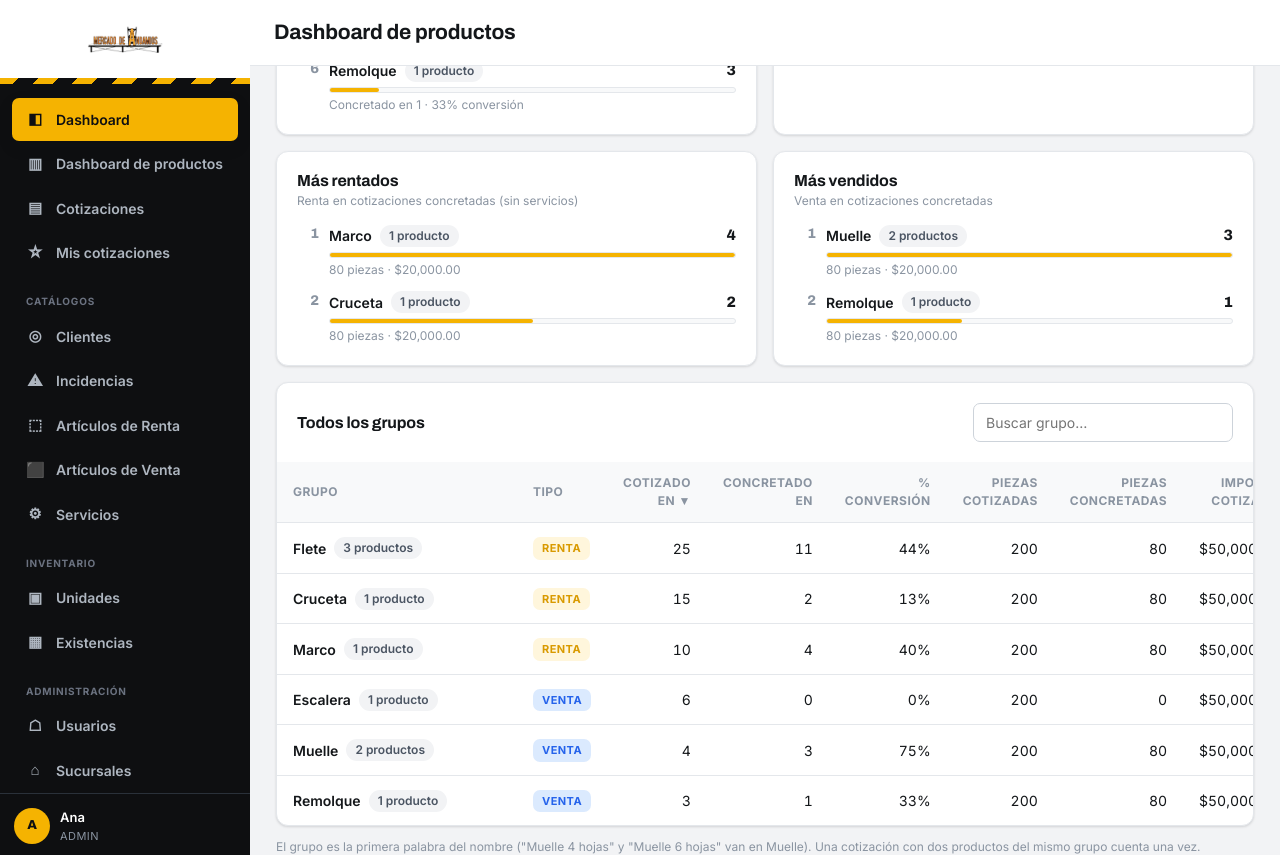
Test case: DashboardProductos — por familia (vista inicial) › clic en una familia muestra sus productos y se puede regresar
(page scrolled)
What coordinates should you click on to do the following:
click the text "Muelle" below "Tipo"
I would click on:
 (316, 750)
Its box is [293, 740, 338, 760].
(page scrolled)
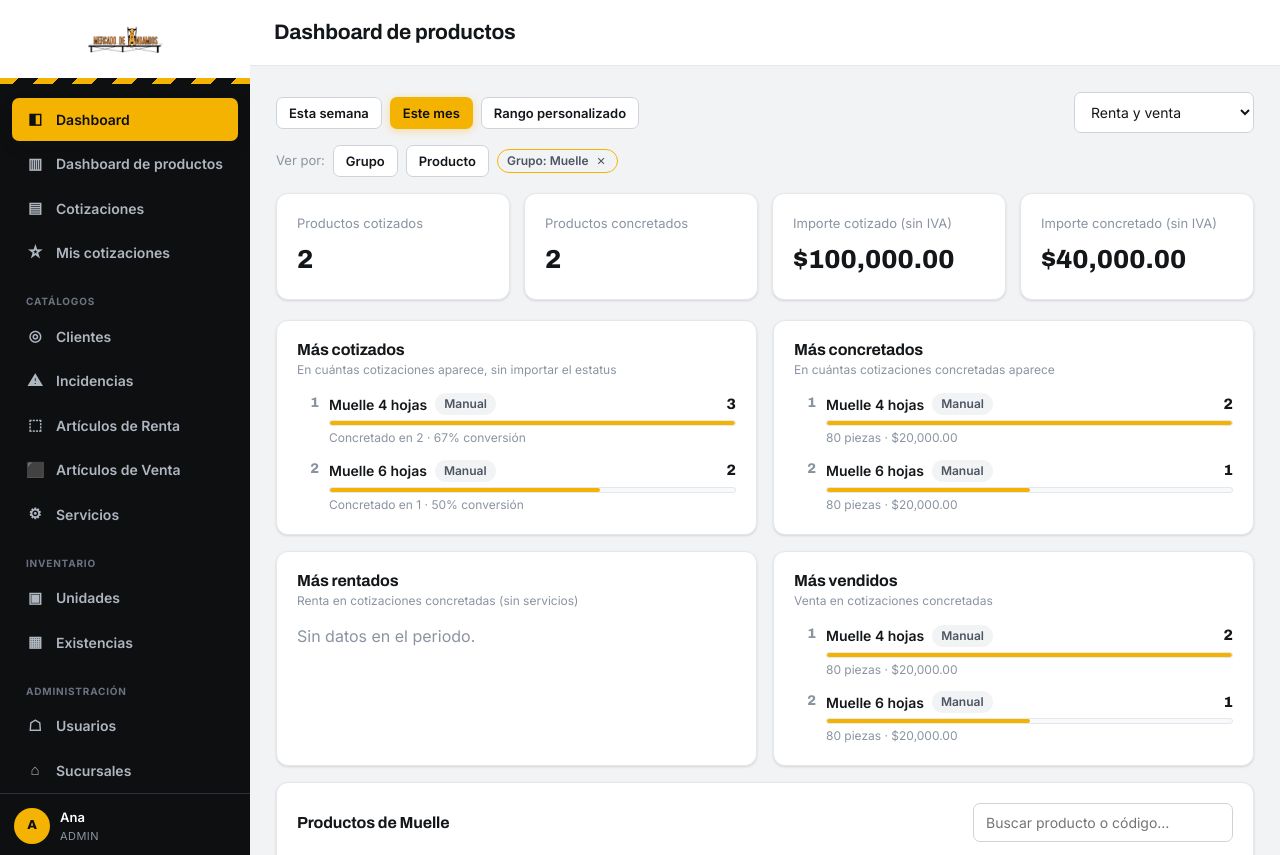
expect the heading "Productos de Muelle" is shown: met, box [297, 814, 449, 832]
What coordinates should you click on to do the following:
click the button named "Quitar grupo"
I would click on:
 (601, 161)
Its box is [595, 154, 608, 168].
(page scrolled)
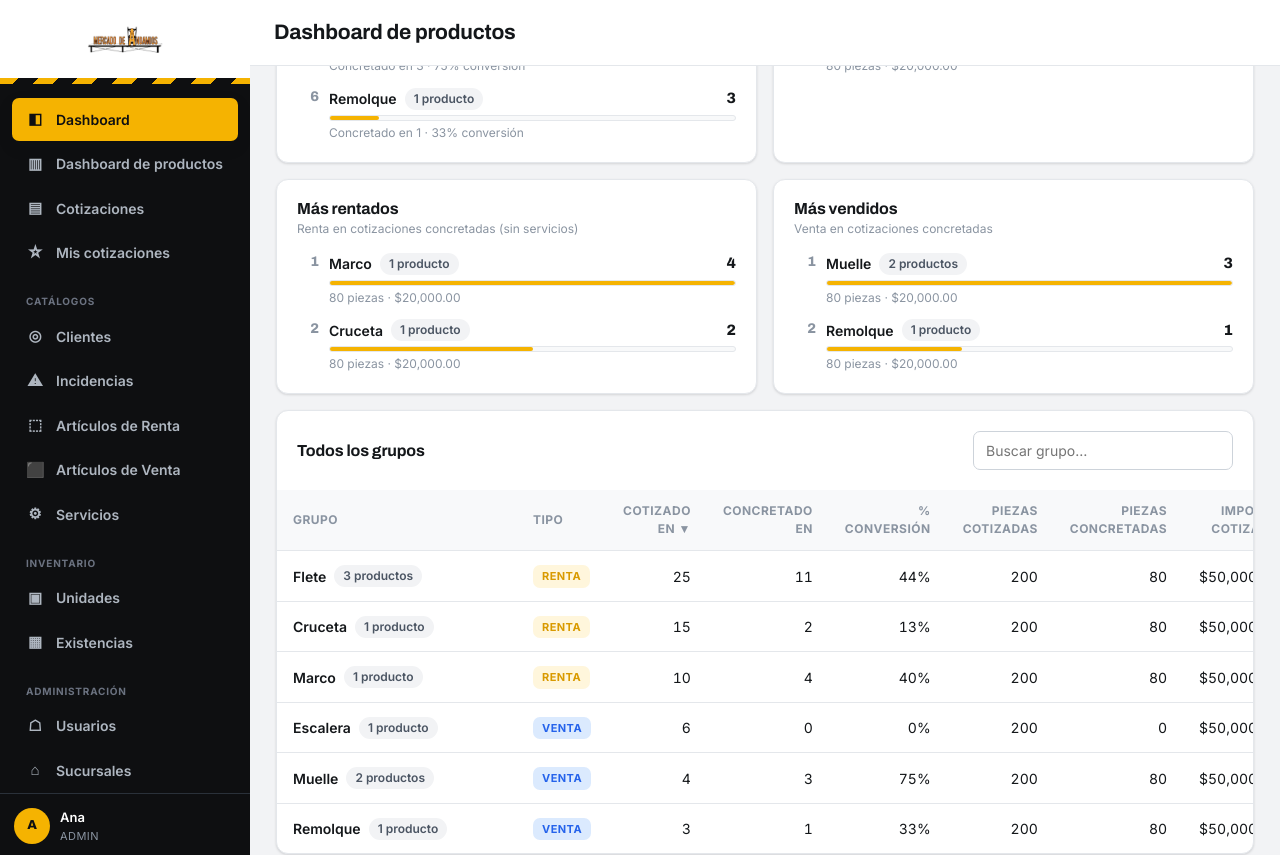
expect the heading "Todos los grupos" is shown: met, box [297, 442, 425, 460]
